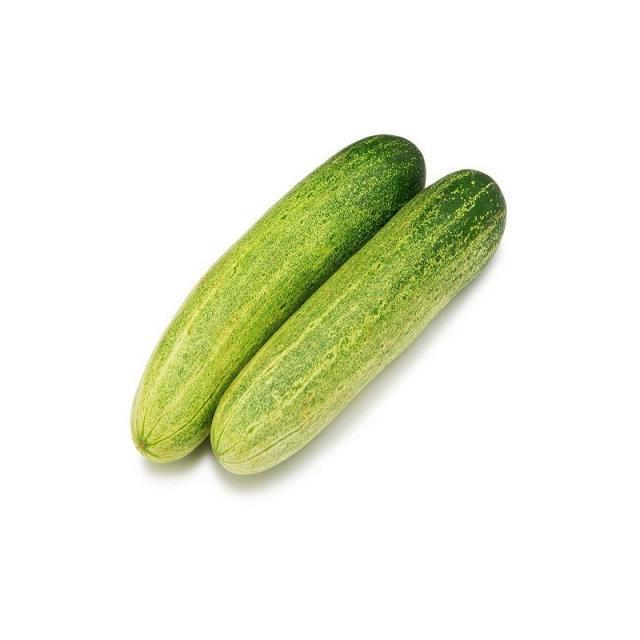Cucumber: (135, 137, 413, 464)
